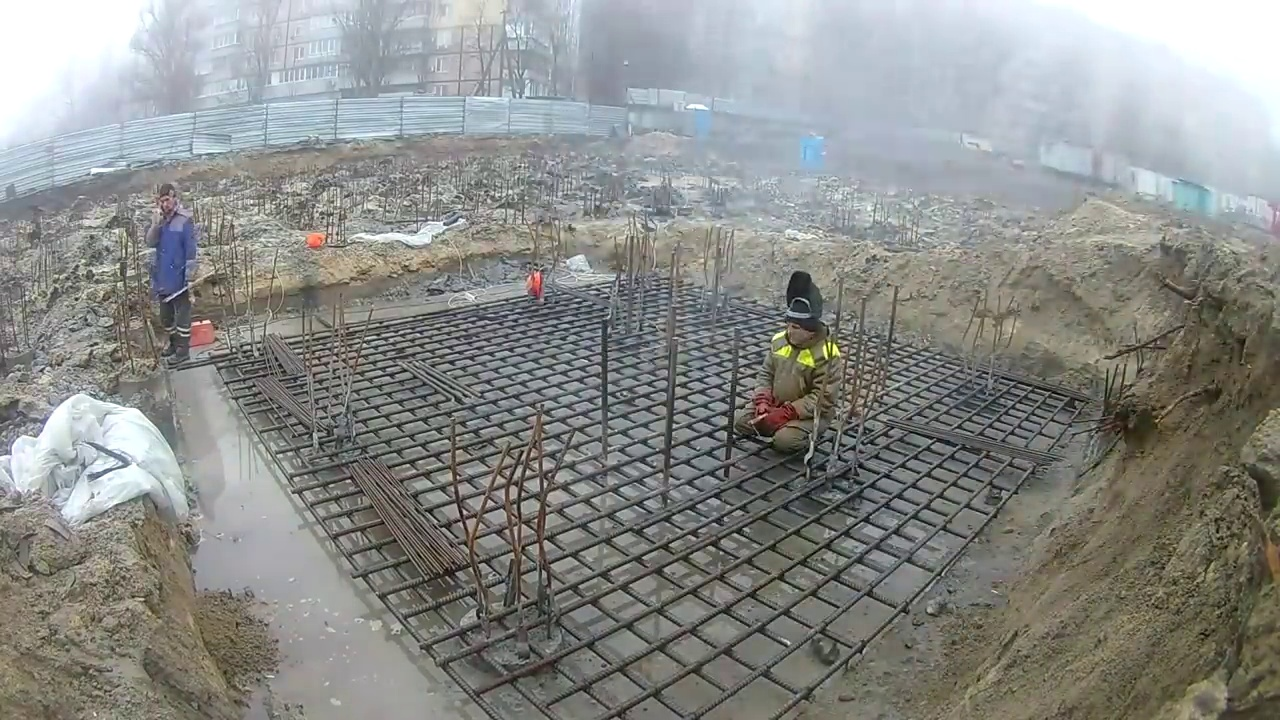helmet: (527, 271, 542, 300), (306, 232, 325, 250)
helmet-off: (784, 274, 824, 345), (157, 185, 180, 224)
person: (734, 274, 845, 460), (144, 185, 198, 365)
